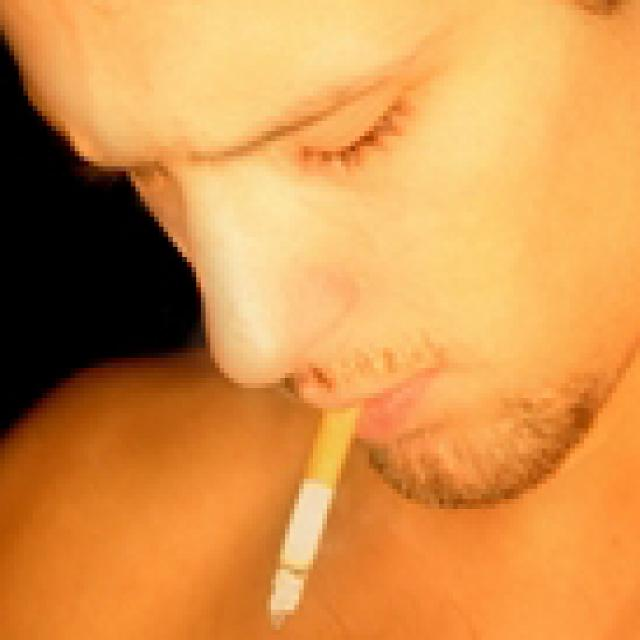smoking: (268, 394, 360, 620)
